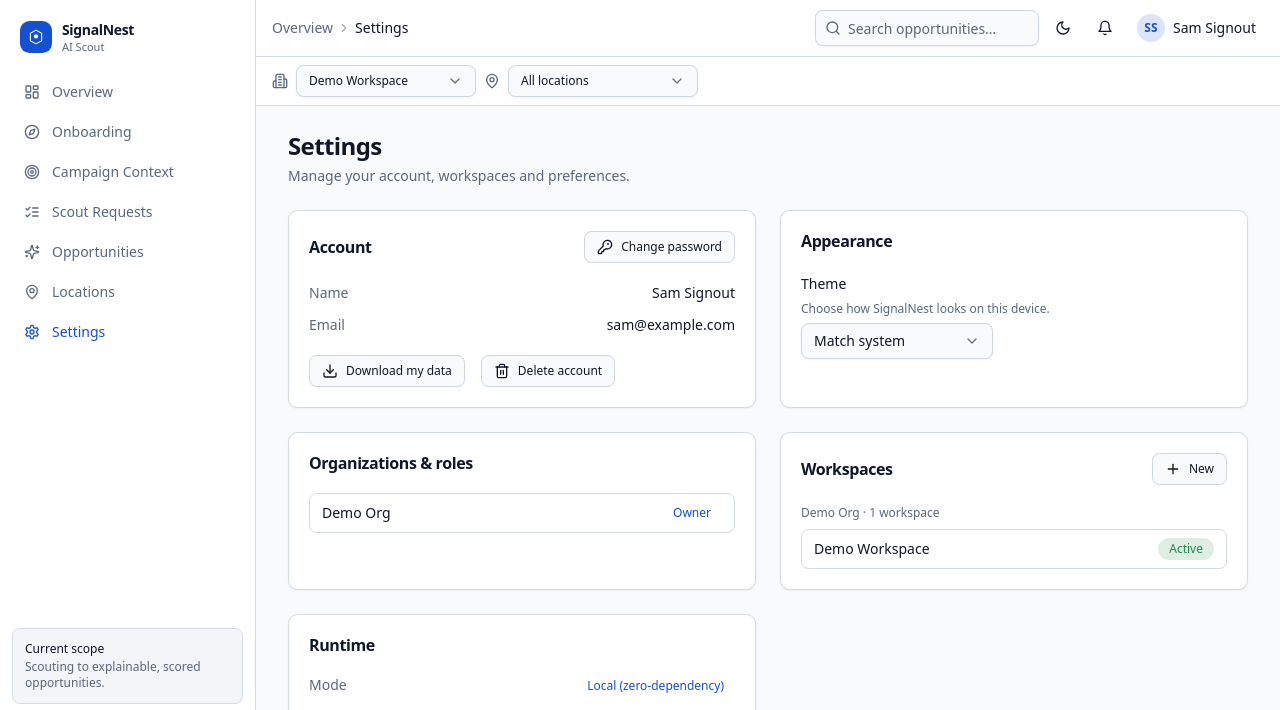
Test case: Sign out everywhere (the account menu) › sits below Sign out, apart from the settings entries, with no session list (F-12)
What coordinates should you click on to do the following:
click the button with aria-label "account menu"
I would click on:
 (1196, 28)
Its box is [1129,10,1264,46].
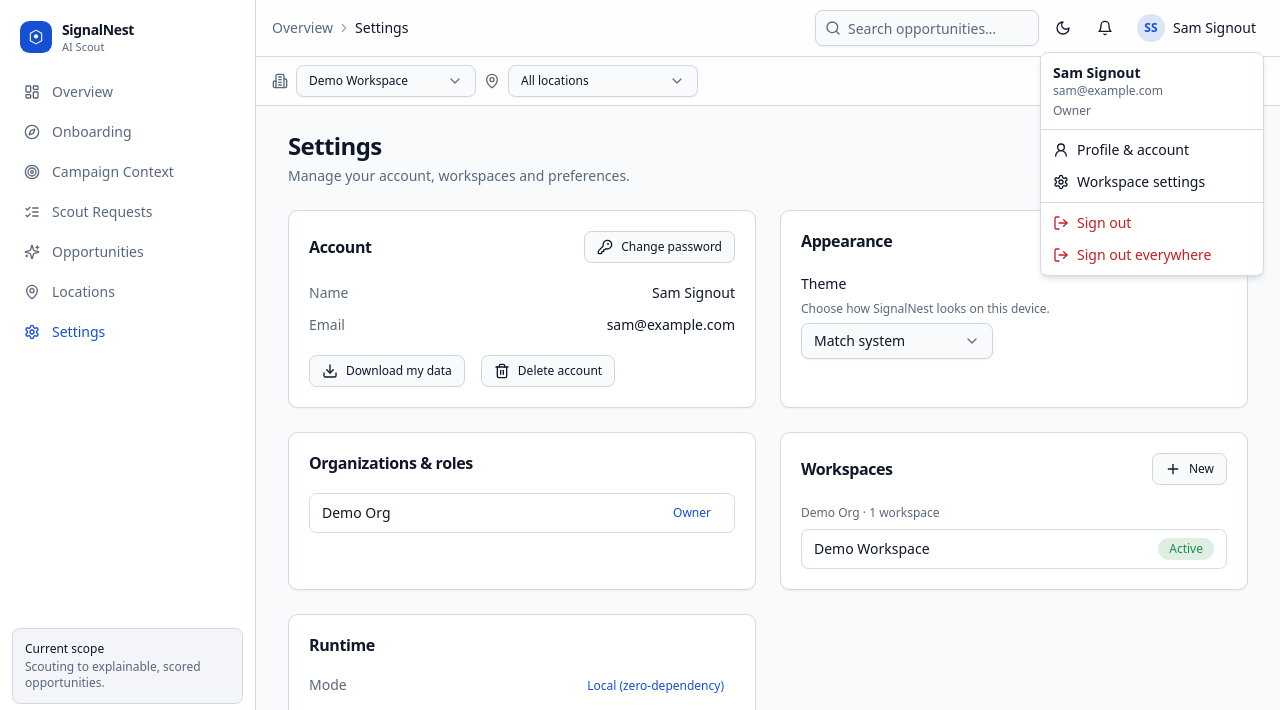
Result: the menu items read "Profile & account", "Workspace settings", "Sign out", "Sign out everywhere", in this order at [1053,140,1189,159]; [1053,172,1205,191]; [1053,213,1131,232]; [1053,245,1212,264]
